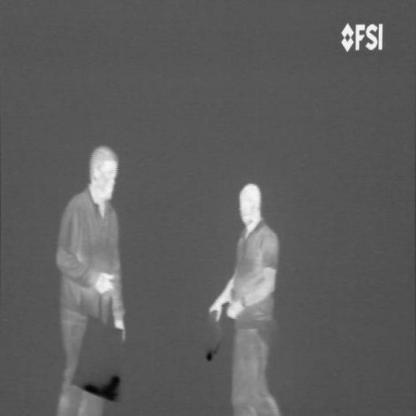weapon: (82, 371, 121, 403)
